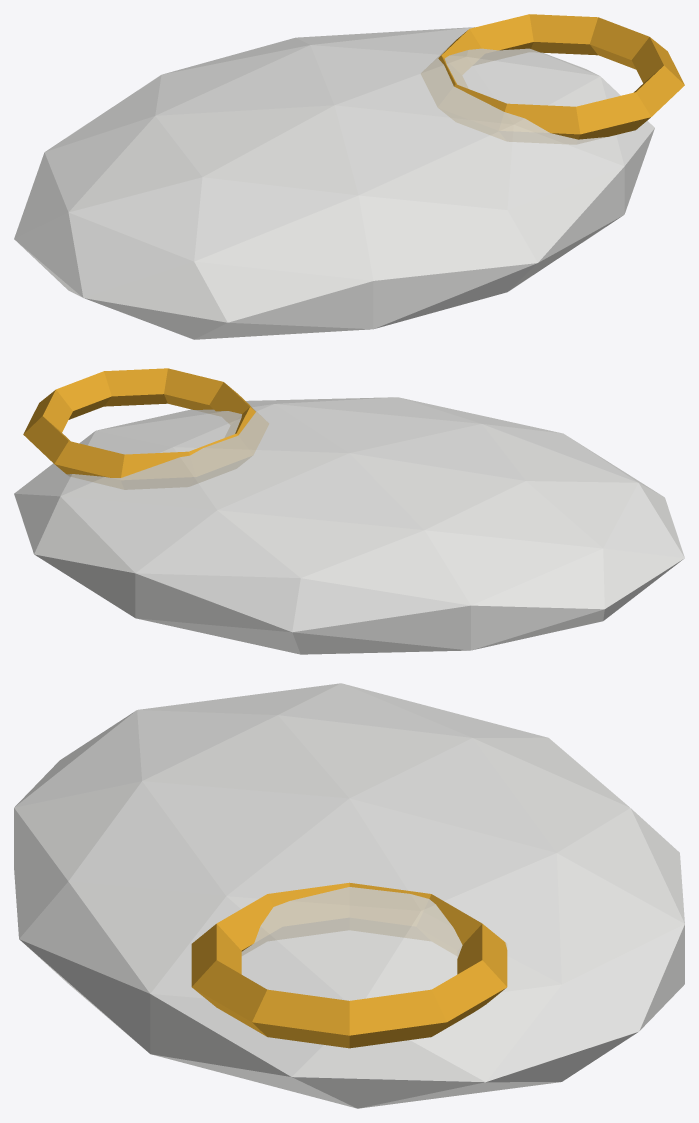
File: trash_bag.glb
3 views of the same model, one above another, from view 1: azimuth 30°, elevation 25°; view 2: azimuth 150°, elevation 25°; view 3: azimuth 270°, elevation 25° (orthographic). The views are drawn at different scales.
Parts seen in each view (by area): view 1: bag, stripe; view 2: bag, stripe; view 3: bag, stripe.
Boxes of the visible parts, x1,y1,x2,y2 form: bag: (14,27,654,339); stripe: (425,14,684,143); bag: (14,397,684,654); stripe: (23,368,266,487); bag: (14,683,684,1108); stripe: (191,882,507,1048).
Bounding box in the file's own units: 0.5272 × 0.1232 × 0.3841.
